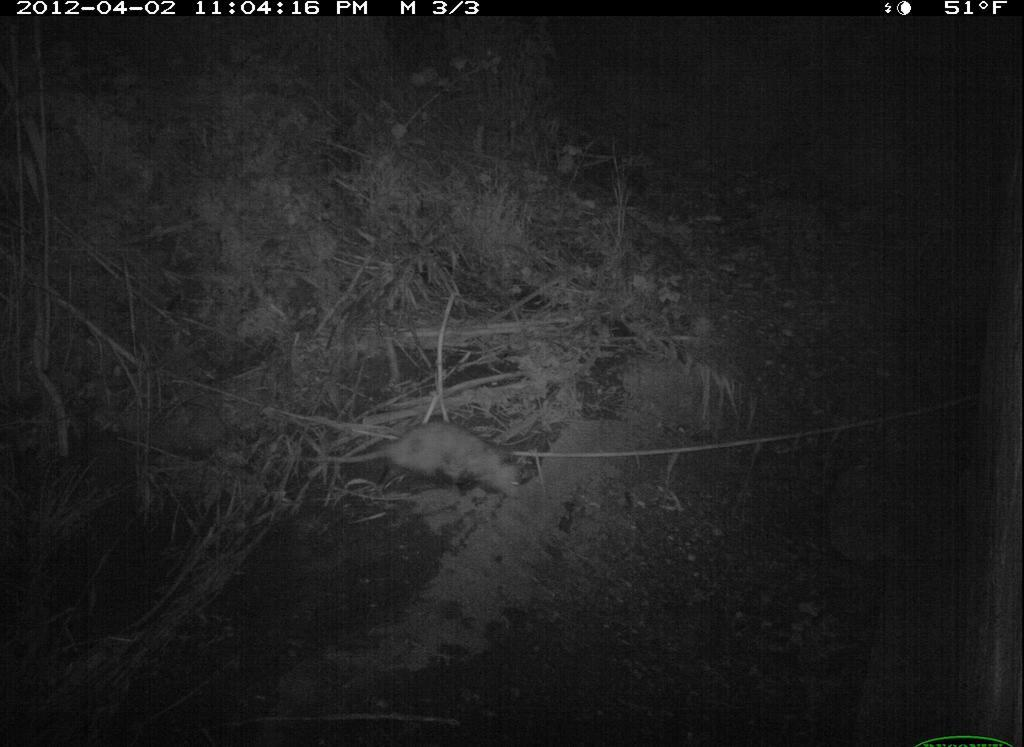opossum: (291, 418, 530, 507)
